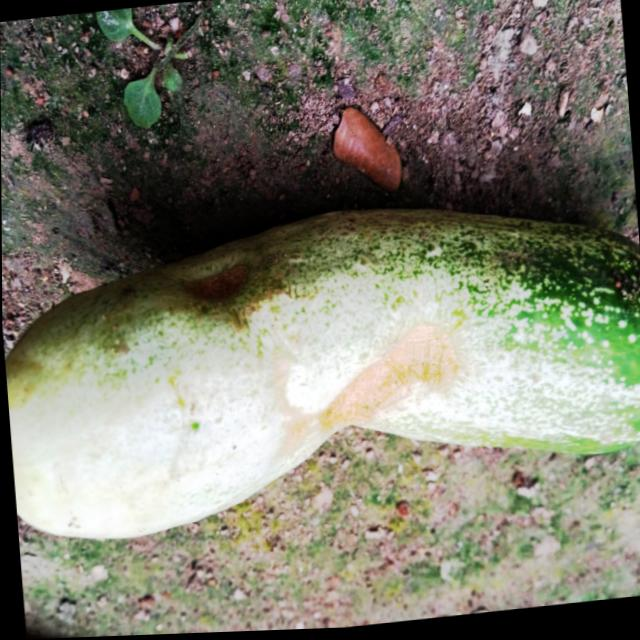Belly-Rot: (252, 320, 468, 464), (166, 256, 263, 317)
